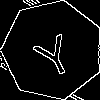Y: (28, 25, 79, 81)
